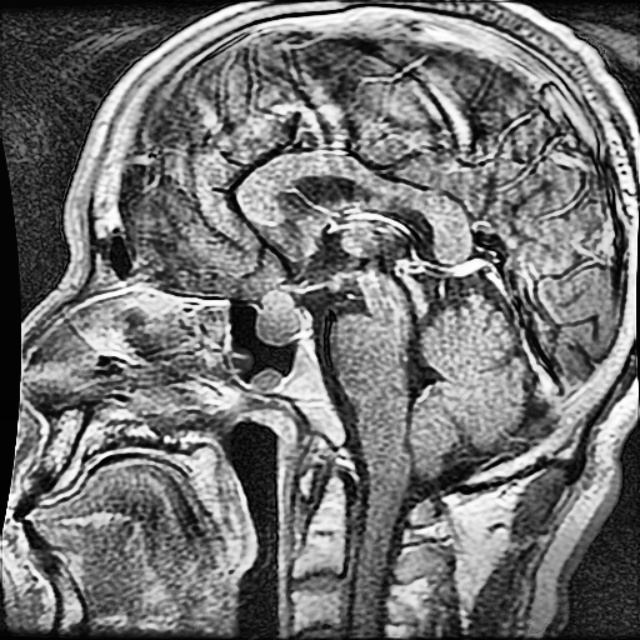Pituitary: (254, 289, 305, 345)
